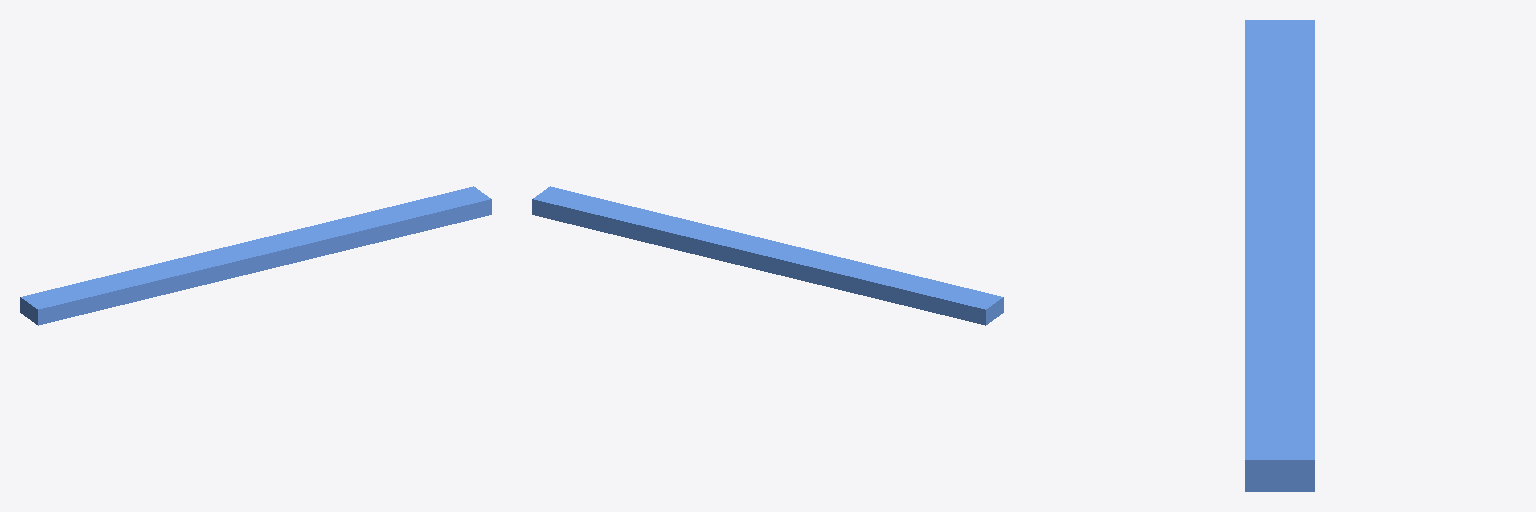
URDF robot description (lbr_iiwa):
<?xml version="1.0" ?>
<!-- ======================================================================= -->
<!-- | This document was autogenerated by xacro from lbr_iiwa.urdf.xacro   | -->
<!-- | Original xacro: https://github.com/rtkg/lbr_iiwa/archive/master.zip | -->
<!-- | EDITING THIS FILE BY HAND IS NOT RECOMMENDED                        | -->
<!-- | Changes ([author]):                                                 | -->
<!-- |   * Removed gazebo tags.                                            | -->
<!-- |   * Removed unused materials.                                       | -->
<!-- |   * Made mesh paths relative.                                       | -->
<!-- |   * Removed material fields from collision segments.                | -->
<!-- |   * Removed the self_collision_checking segment.                    | -->
<!-- |   * Removed transmission segments, since they didn't match the      | -->
<!-- |     convention, will have to added back later.                      | -->
<!-- ======================================================================= -->
<!--LICENSE:                                                                 -->
<!--Copyright (c) 2015, [author] & [author], AASS Research Center,  -->
<!--Orebro University, Sweden                                                -->
<!--All rights reserved.                                                     -->
<!--                                                                         -->
<!--Redistribution and use in source and binary forms, with or without       -->
<!--modification, are permitted provided that the following conditions are   -->
<!--met:                                                                     -->
<!--                                                                         -->
<!--1. Redistributions of source code must retain the above copyright notice,-->
<!--   this list of conditions and the following disclaimer.                 -->
<!--                                                                         -->
<!--2. Redistributions in binary form must reproduce the above copyright     -->
<!--   notice, this list of conditions and the following disclaimer in the   -->
<!--   documentation and/or other materials provided with the distribution.  -->
<!--                                                                         -->
<!--THIS SOFTWARE IS PROVIDED BY THE COPYRIGHT [author] "AS  -->
<!--IS" AND ANY EXPRESS OR IMPLIED WARRANTIES, INCLUDING, BUT NOT LIMITED TO,-->
<!--THE IMPLIED WARRANTIES OF MERCHANTABILITY AND FITNESS FOR A PARTICULAR   -->
<!--PURPOSE ARE DISCLAIMED. IN NO EVENT SHALL THE COPYRIGHT [author]        -->
<!--CONTRIBUTORS BE LIABLE FOR ANY DIRECT, INDIRECT, INCIDENTAL, SPECIAL,    -->
<!--EXEMPLARY, OR CONSEQUENTIAL DAMAGES (INCLUDING, BUT NOT LIMITED TO,      -->
<!--PROCUREMENT OF SUBSTITUTE GOODS OR SERVICES; LOSS OF USE, DATA, OR       -->
<!--PROFITS; OR BUSINESS INTERRUPTION) HOWEVER CAUSED AND ON ANY THEORY OF   -->
<!--LIABILITY, WHETHER IN CONTRACT, STRICT LIABILITY, OR TORT (INCLUDING     -->
<!--NEGLIGENCE OR OTHERWISE) ARISING IN ANY WAY OUT OF THE USE OF THIS       -->
<!--SOFTWARE, EVEN IF ADVISED OF THE POSSIBILITY OF SUCH DAMAGE.             -->
<robot name="lbr_iiwa" xmlns:xacro="http://www.ros.org/wiki/xacro">
  <!-- Import Rviz colors -->
  <material name="Grey">
    <color rgba="0.2 0.2 0.2 1.0"/>
  </material>
  <material name="Orange">
    <color rgba="1.0 0.423529411765 0.0392156862745 1.0"/>
  </material>
  <material name="Blue">
  <color rgba="0.5 0.7 1.0 1.0"/>
</material>

  <!--Import the lbr iiwa macro -->
  <!--Import Transmissions -->
  <!--Include Utilities -->
  <!--The following macros are adapted from the LWR 4 definitions of the RCPRG - https://github.com/RCPRG-ros-pkg/lwr_robot -->
  <!--Little helper macros to define the inertia matrix needed for links.-->
  <!--Cuboid-->
  <!--Cylinder: length is along the y-axis! -->
  <!--lbr-->

  <link name="sliding_base">
    <inertial>
      <origin rpy="0 0 0" xyz="0 0 0"/>
      <mass value="0.0"/>
      <inertia ixx="0.1" ixy="0" ixz="0" iyy="0.1" iyz="0" izz="0.1"/>
    </inertial>
    <visual>
      <origin rpy="0 0 0" xyz="0 0 0"/>
      <geometry>
        <box size="6 0.4 0.2"/>
      </geometry>
      <material name="Blue"/>
    </visual>
    <collision>
      <origin rpy="0 0 0" xyz="0 0 0"/>
      <geometry>
        <box size="6 0.4 0.2"/>
      </geometry>
    </collision>
  </link>

  <joint name="sliding_joint" type="prismatic">
    <parent link="sliding_base"/>
    <child link="lbr_iiwa_link_0"/>
    <origin rpy="0 0 0" xyz="0 0 0"/>
    <axis xyz="1 0 0"/>
    <limit lower="-12" upper="12" effort="1000" velocity="1.0"/>
  </joint>

  <link name="lbr_iiwa_link_0">
    <inertial>
      <origin rpy="0 0 0" xyz="-0.1 0 0.07"/>
      <!--Increase mass from 5 Kg original to provide a stable base to carry the
          arm.-->
      <mass value="0.0"/>
      <inertia ixx="0.05" ixy="0" ixz="0" iyy="0.06" iyz="0" izz="0.03"/>
    </inertial>
    <visual>
      <origin rpy="0 0 0" xyz="0 0 0"/>
      <geometry>
        <mesh filename="meshes/link_0.obj"/>
      </geometry>
      <material name="Grey"/>
    </visual>
    <collision>
      <origin rpy="0 0 0" xyz="0 0 0"/>
      <geometry>
        <mesh filename="meshes/link_0.stl"/>
      </geometry>
    </collision>
  </link>

  <!-- joint between link_0 and link_1 -->
  <joint name="lbr_iiwa_joint_1" type="revolute">
    <parent link="lbr_iiwa_link_0"/>
    <child link="lbr_iiwa_link_1"/>
    <origin rpy="0 0 0" xyz="0 0 0.1575"/>
    <axis xyz="0 0 1"/>
    <limit effort="300" lower="-2.96705972839" upper="2.96705972839" velocity="10"/>
    <dynamics damping="0.5"/>
  </joint>
  <link name="lbr_iiwa_link_1">
    <inertial>
      <origin rpy="0 0 0" xyz="0 -0.03 0.12"/>
      <mass value="4"/>
      <inertia ixx="0.1" ixy="0" ixz="0" iyy="0.09" iyz="0" izz="0.02"/>
    </inertial>
    <visual>
      <origin rpy="0 0 0" xyz="0 0 0"/>
      <geometry>
        <mesh filename="meshes/link_1.obj"/>
      </geometry>
      <material name="Blue"/>
    </visual>
    <collision>
      <origin rpy="0 0 0" xyz="0 0 0"/>
      <geometry>
        <mesh filename="meshes/link_1.stl"/>
      </geometry>
    </collision>
  </link>
  <!-- joint between link_1 and link_2 -->
  <joint name="lbr_iiwa_joint_2" type="revolute">
    <parent link="lbr_iiwa_link_1"/>
    <child link="lbr_iiwa_link_2"/>
    <origin rpy="1.57079632679   0 3.14159265359" xyz="0 0 0.2025"/>
    <axis xyz="0 0 1"/>
    <limit effort="300" lower="-2.09439510239" upper="2.09439510239" velocity="10"/>
    <dynamics damping="0.5"/>
  </joint>
  <link name="lbr_iiwa_link_2">
    <inertial>
      <origin rpy="0 0 0" xyz="0.0003 0.059 0.042"/>
      <mass value="4"/>
      <inertia ixx="0.05" ixy="0" ixz="0" iyy="0.018" iyz="0" izz="0.044"/>
    </inertial>
    <visual>
      <origin rpy="0 0 0" xyz="0 0 0"/>
      <geometry>
        <mesh filename="meshes/link_2.obj"/>
      </geometry>
      <material name="Blue"/>
    </visual>
    <collision>
      <origin rpy="0 0 0" xyz="0 0 0"/>
      <geometry>
        <mesh filename="meshes/link_2.stl"/>
      </geometry>
    </collision>
  </link>
  <!-- joint between link_2 and link_3 -->
  <joint name="lbr_iiwa_joint_3" type="revolute">
    <parent link="lbr_iiwa_link_2"/>
    <child link="lbr_iiwa_link_3"/>
    <origin rpy="1.57079632679 0 3.14159265359" xyz="0 0.2045 0"/>
    <axis xyz="0 0 1"/>
    <limit effort="300" lower="-2.96705972839" upper="2.96705972839" velocity="10"/>
    <dynamics damping="0.5"/>
  </joint>
  <link name="lbr_iiwa_link_3">
    <inertial>
      <origin rpy="0 0 0" xyz="0 0.03 0.13"/>
      <mass value="3"/>
      <inertia ixx="0.08" ixy="0" ixz="0" iyy="0.075" iyz="0" izz="0.01"/>
    </inertial>
    <visual>
      <origin rpy="0 0 0" xyz="0 0 0"/>
      <geometry>
        <mesh filename="meshes/link_3.obj"/>
      </geometry>
      <material name="Orange"/>
    </visual>
    <collision>
      <origin rpy="0 0 0" xyz="0 0 0"/>
      <geometry>
        <mesh filename="meshes/link_3.stl"/>
      </geometry>
    </collision>
  </link>
  <!-- joint between link_3 and link_4 -->
  <joint name="lbr_iiwa_joint_4" type="revolute">
    <parent link="lbr_iiwa_link_3"/>
    <child link="lbr_iiwa_link_4"/>
    <origin rpy="1.57079632679 0 0" xyz="0 0 0.2155"/>
    <axis xyz="0 0 1"/>
    <limit effort="300" lower="-2.09439510239" upper="2.09439510239" velocity="10"/>
    <dynamics damping="0.5"/>
  </joint>
  <link name="lbr_iiwa_link_4">
    <inertial>
      <origin rpy="0 0 0" xyz="0 0.067 0.034"/>
      <mass value="2.7"/>
      <inertia ixx="0.03" ixy="0" ixz="0" iyy="0.01" iyz="0" izz="0.029"/>
    </inertial>
    <visual>
      <origin rpy="0 0 0" xyz="0 0 0"/>
      <geometry>
        <mesh filename="meshes/link_4.obj"/>
      </geometry>
      <material name="Blue"/>
    </visual>
    <collision>
      <origin rpy="0 0 0" xyz="0 0 0"/>
      <geometry>
        <mesh filename="meshes/link_4.stl"/>
      </geometry>
    </collision>
  </link>
  <!-- joint between link_4 and link_5 -->
  <joint name="lbr_iiwa_joint_5" type="revolute">
    <parent link="lbr_iiwa_link_4"/>
    <child link="lbr_iiwa_link_5"/>
    <origin rpy="-1.57079632679 3.14159265359 0" xyz="0 0.1845 0"/>
    <axis xyz="0 0 1"/>
    <limit effort="300" lower="-2.96705972839" upper="2.96705972839" velocity="10"/>
    <dynamics damping="0.5"/>
  </joint>
  <link name="lbr_iiwa_link_5">
    <inertial>
      <origin rpy="0 0 0" xyz="0.0001 0.021 0.076"/>
      <mass value="1.7"/>
      <inertia ixx="0.02" ixy="0" ixz="0" iyy="0.018" iyz="0" izz="0.005"/>
    </inertial>
    <visual>
      <origin rpy="0 0 0" xyz="0 0 0"/>
      <geometry>
        <mesh filename="meshes/link_5.obj"/>
      </geometry>
      <material name="Blue"/>
    </visual>
    <collision>
      <origin rpy="0 0 0" xyz="0 0 0"/>
      <geometry>
        <mesh filename="meshes/link_5.stl"/>
      </geometry>
    </collision>
  </link>
  <!-- joint between link_5 and link_6 -->
  <joint name="lbr_iiwa_joint_6" type="revolute">
    <parent link="lbr_iiwa_link_5"/>
    <child link="lbr_iiwa_link_6"/>
    <origin rpy="1.57079632679 0 0" xyz="0 0 0.2155"/>
    <axis xyz="0 0 1"/>
    <limit effort="300" lower="-2.09439510239" upper="2.09439510239" velocity="10"/>
    <dynamics damping="0.5"/>
  </joint>
  <link name="lbr_iiwa_link_6">
    <inertial>
      <origin rpy="0 0 0" xyz="0 0.0006 0.0004"/>
      <mass value="1.8"/>
      <inertia ixx="0.005" ixy="0" ixz="0" iyy="0.0036" iyz="0" izz="0.0047"/>
    </inertial>
    <visual>
      <origin rpy="0 0 0" xyz="0 0 0"/>
      <geometry>
        <mesh filename="meshes/link_6.obj"/>
      </geometry>
      <material name="Orange"/>
    </visual>
    <collision>
      <origin rpy="0 0 0" xyz="0 0 0"/>
      <geometry>
        <mesh filename="meshes/link_6.stl"/>
      </geometry>
    </collision>
  </link>
  <!-- joint between link_6 and link_7 -->
  <joint name="lbr_iiwa_joint_7" type="revolute">
    <parent link="lbr_iiwa_link_6"/>
    <child link="lbr_iiwa_link_7"/>
    <origin rpy="-1.57079632679 3.14159265359 0" xyz="0 0.081 0"/>
    <axis xyz="0 0 1"/>
    <limit effort="300" lower="-3.05432619099" upper="3.05432619099" velocity="10"/>
    <dynamics damping="0.5"/>
  </joint>
  <link name="lbr_iiwa_link_7">
    <inertial>
      <origin rpy="0 0 0" xyz="0 0 0.02"/>
      <mass value="0.3"/>
      <inertia ixx="0.001" ixy="0" ixz="0" iyy="0.001" iyz="0" izz="0.001"/>
    </inertial>
    <visual>
      <origin rpy="0 0 0" xyz="0 0 0"/>
      <geometry>
        <mesh filename="meshes/link_7.obj"/>
      </geometry>
      <material name="Grey"/>
    </visual>
    <collision>
      <origin rpy="0 0 0" xyz="0 0 0"/>
      <geometry>
        <mesh filename="meshes/link_7.stl"/>
      </geometry>
    </collision>
  </link>

</robot>

--- Facts derived from the render (not from the file) ---
The picture shows the robot from 3 angles, left to right: view 1: azimuth 30°, elevation 25°; view 2: azimuth 150°, elevation 25°; view 3: azimuth 270°, elevation 25°; orthographic projection.
Robot: lbr_iiwa — 9 links, 8 joints (7 revolute, 1 prismatic); root link sliding_base; default pose: every joint at zero.
Visible links, largest first — view 1: sliding_base; view 2: sliding_base; view 3: sliding_base.
Link boxes in pixels (left/top/right/bottom): sliding_base: left=20, top=186, right=491, bottom=325; sliding_base: left=532, top=186, right=1003, bottom=325; sliding_base: left=1245, top=20, right=1314, bottom=491.
Size in the robot's own frame: 6 by 0.4 by 0.2 metres.
0 mesh visuals loaded from 8 distinct referenced files (none loaded); not drawn: 8 (reference not matched to a file when rendering).